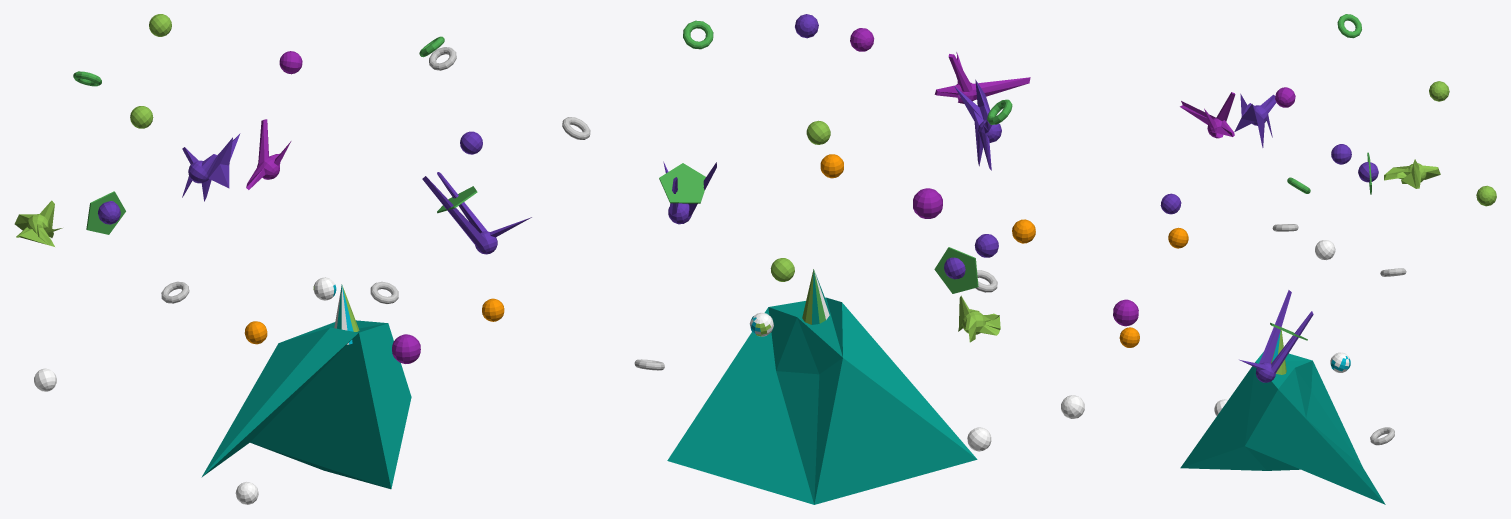
3 renders of one model, left to right at view 1: azimuth 30°, elevation 25°; view 2: azimuth 150°, elevation 25°; view 3: azimuth 270°, elevation 25°, orthographic. The views are drawn at different scales.
Parts seen in each view (by area): view 1: group_1202532644, mesh_1524745088, mesh_260475551, mesh_504974084, mesh_642981759, group_1840595518, mesh_2013873923, mesh_289806415; view 2: group_1202532644, mesh_260475551, mesh_642981759, group_40877902, group_1840595518, mesh_504974084, mesh_289806415, mesh_2013873923, mesh_1524745088; view 3: group_1202532644, mesh_1524745088, mesh_642981759, mesh_260475551, mesh_504974084, mesh_2013873923.
Boxes of the visible parts, left/top/right/bottom form: group_1202532644: left=201, top=320, right=411, bottom=489; mesh_1524745088: left=422, top=172, right=531, bottom=254; mesh_260475551: left=182, top=133, right=240, bottom=201; mesh_504974084: left=14, top=200, right=62, bottom=246; mesh_642981759: left=246, top=119, right=291, bottom=189; group_1840595518: left=86, top=191, right=125, bottom=234; mesh_2013873923: left=392, top=334, right=420, bottom=363; mesh_289806415: left=334, top=284, right=359, bottom=344; group_1202532644: left=667, top=297, right=977, bottom=504; mesh_260475551: left=954, top=79, right=1001, bottom=170; mesh_642981759: left=934, top=52, right=1030, bottom=103; group_40877902: left=659, top=163, right=705, bottom=203; group_1840595518: left=934, top=247, right=978, bottom=293; mesh_504974084: left=958, top=295, right=1000, bottom=342; mesh_289806415: left=802, top=269, right=829, bottom=324; mesh_2013873923: left=913, top=188, right=942, bottom=218; mesh_1524745088: left=663, top=161, right=716, bottom=224; group_1202532644: left=1180, top=352, right=1385, bottom=504; mesh_1524745088: left=1239, top=290, right=1313, bottom=382; mesh_642981759: left=1180, top=92, right=1235, bottom=138; mesh_260475551: left=1234, top=93, right=1276, bottom=147; mesh_504974084: left=1384, top=159, right=1440, bottom=188; mesh_2013873923: left=1113, top=299, right=1138, bottom=326.
Bounding box in the file's own units: 159 × 140 × 129.
